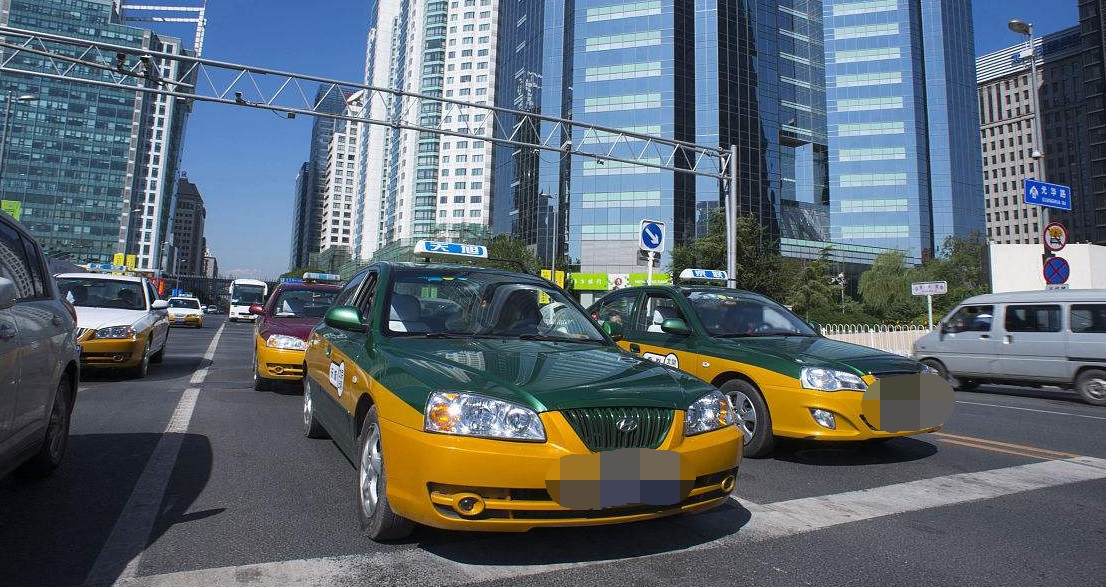taxi: (298, 240, 749, 547)
